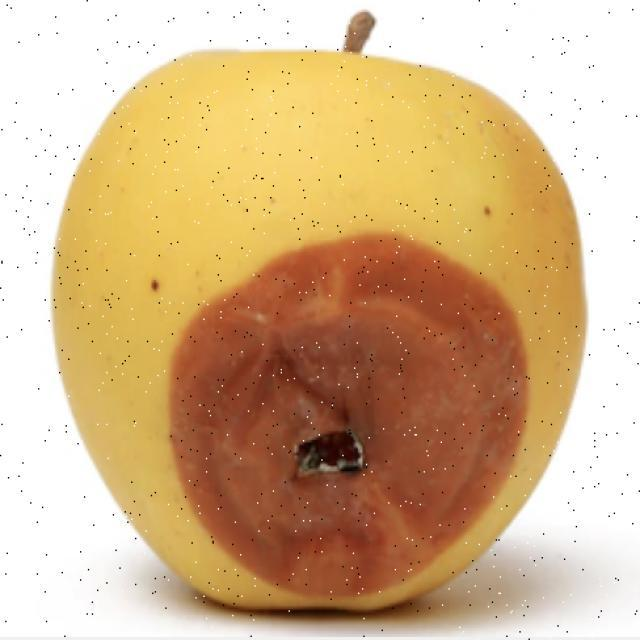Rotten: (78, 42, 565, 603)
